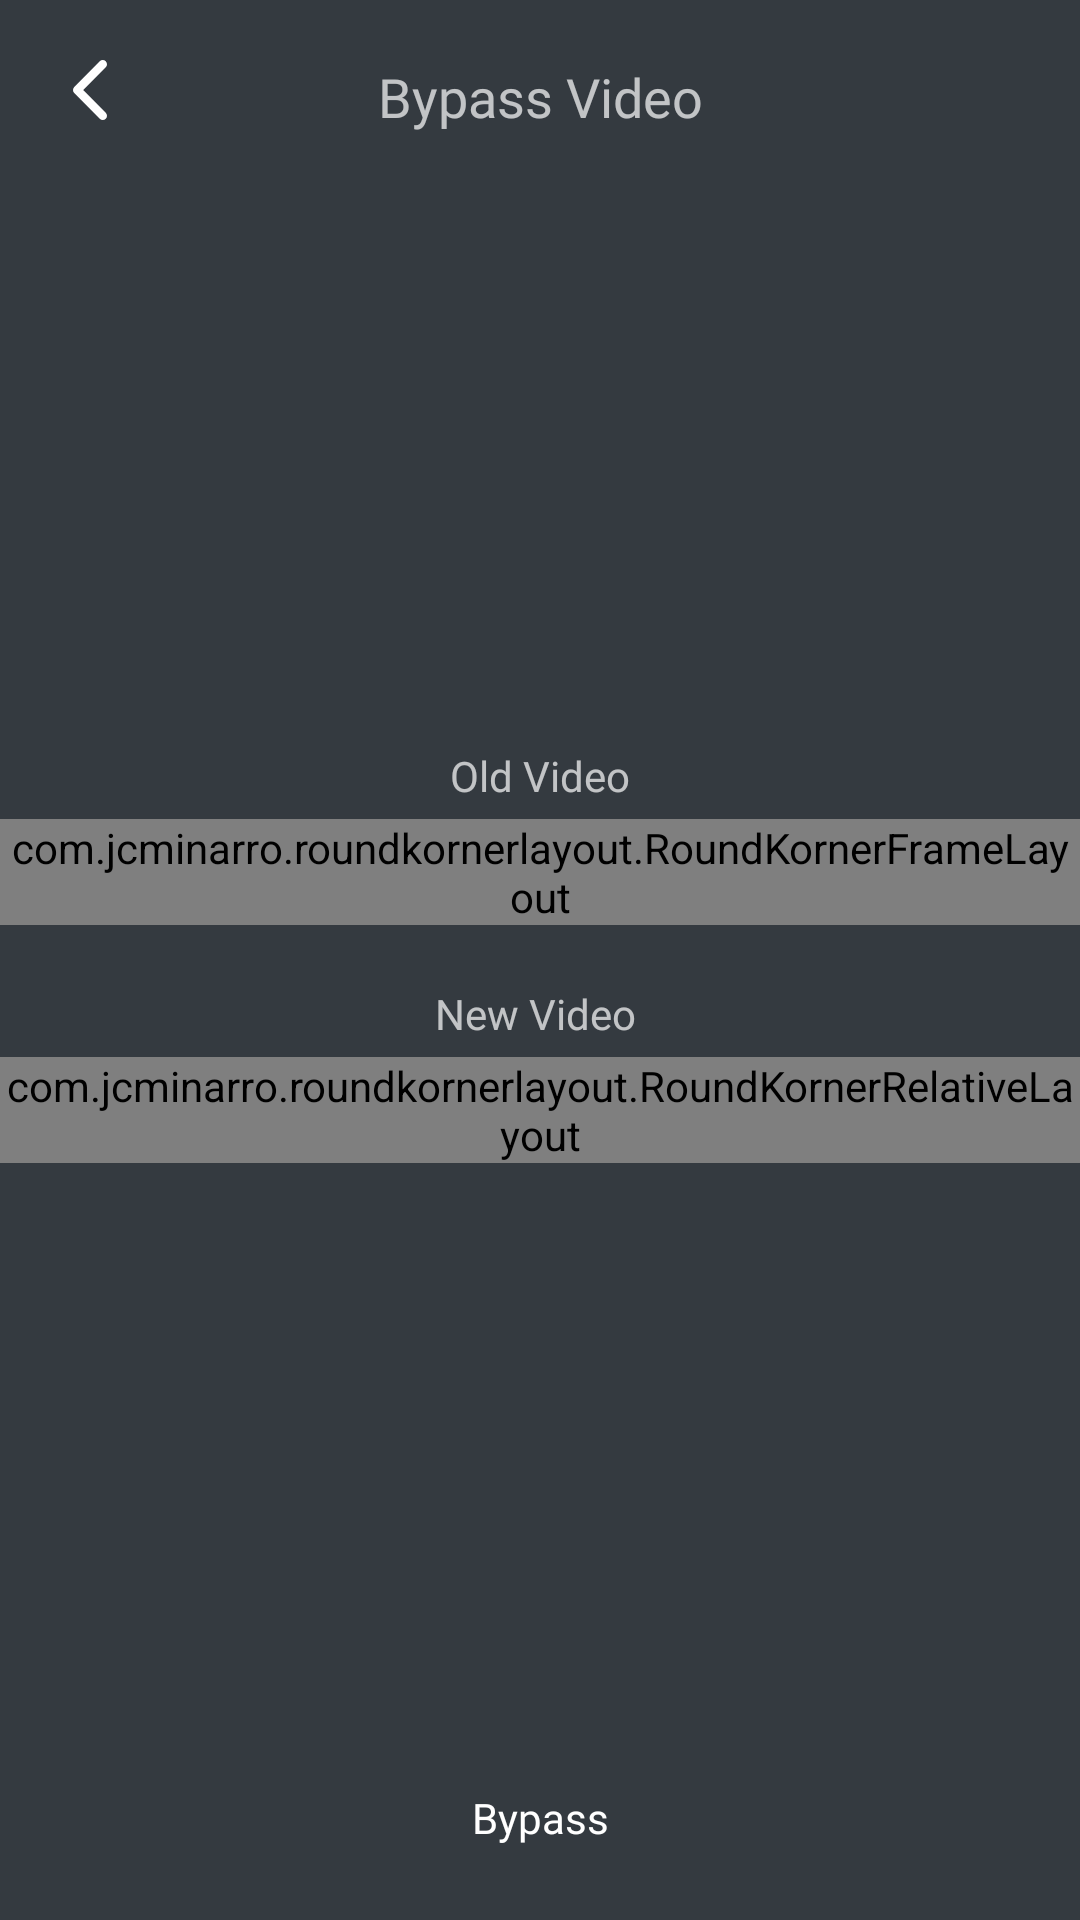

Where to tap for icons on this 1080 x 1920 app screen, as [x,y]:
back: [90,90]
